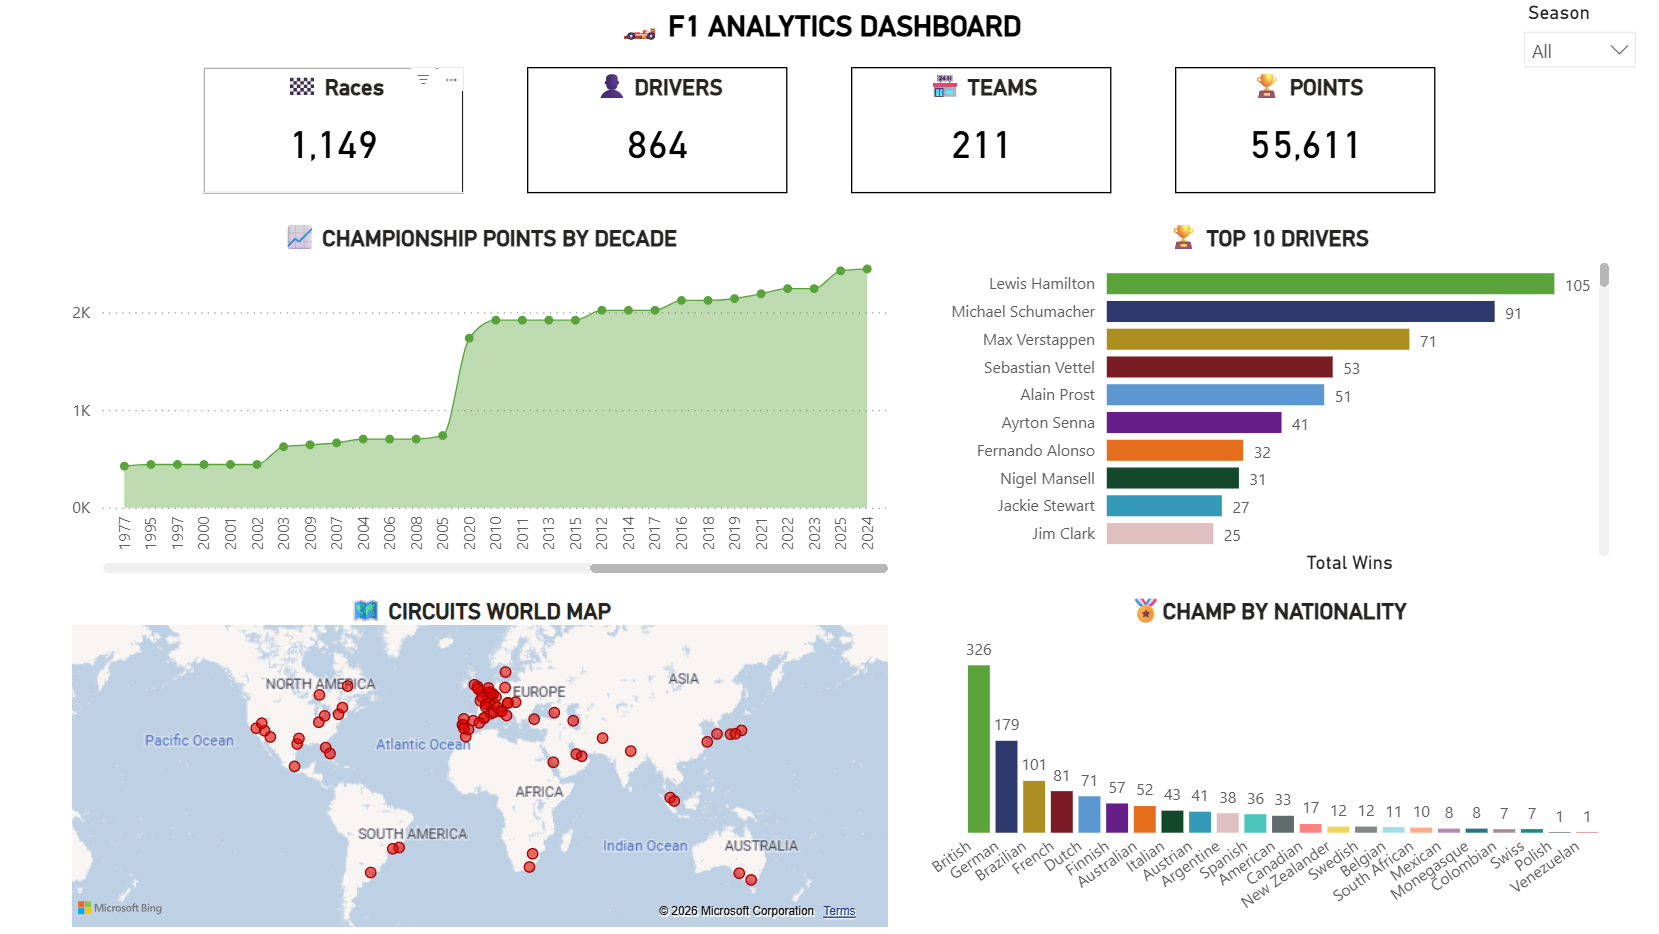

What the dashboard file says about the page in this screenshot:
{"tool":"powerbi","page":{"name":" Executive Summary 🏆","canvas":[1280,720],"ordinal":0},"visuals":[{"type":"textbox","box":[455.4,6.1,368.7,42.6],"z":0},{"type":"slicer","fields":{"Values":["dim_date.Season"]},"box":[1165.5,6.1,104.9,54.7],"z":1000},{"type":"card","title":"🏁 Races","fields":{"Values":["fact_race_results.race_id"]},"box":[171.3,60.8,198.4,95.8],"z":2000},{"type":"areaChart","title":"📈 CHAMPIONSHIP POINTS BY DECADE","fields":{"Y":["Measuer.Total Points"],"Category":["fact_race_results.race_year"]},"box":[66.1,177.1,631,273.7],"z":3000},{"type":"card","title":"👤 DRIVERS","fields":{"Values":["dim_driver_career.driver_id"]},"box":[417.6,60.8,198.4,95.8],"z":4000},{"type":"barChart","title":"🏆 TOP 10 DRIVERS","fields":{"Y":["Measuer.Total Wins"],"Category":["dim_driver_career.driver_name"],"Series":["dim_driver_career.driver_name"]},"box":[716.2,177.1,529.2,273.7],"z":5000},{"type":"card","title":"🏪 TEAMS","fields":{"Values":["dim_constructor_performance.constructor_id"]},"box":[663.9,60.8,198.4,95.8],"z":6000},{"type":"map","title":"🗺️ CIRCUITS WORLD MAP ","fields":{"Category":["agg_circuit_statistics.circuit_location"]},"box":[66.1,460.7,631,259.3],"z":7000},{"type":"card","title":"🏆 POINTS","fields":{"Values":["Measuer.Total Points"]},"box":[910.3,60.8,198.4,95.8],"z":8000},{"type":"columnChart","title":"🏅CHAMP BY NATIONALITY","fields":{"Category":["dim_driver_career.driver_nationality"],"Y":["Measuer.Total Wins"],"Series":["dim_driver_career.driver_nationality"]},"box":[716.2,460.7,529.2,259.3],"z":9000}]}

Visuals, with their boxes in screenshot pixels (x1, y1, x2, y2), scaled from the page's 1280x720 canvas onto the 1659x934 screenshot:
textbox: bbox=(590, 8, 1068, 63)
slicer - dim_date.Season: bbox=(1511, 8, 1647, 79)
"🏁 Races" card: bbox=(222, 79, 479, 203)
"📈 CHAMPIONSHIP POINTS BY DECADE" areaChart: bbox=(86, 230, 904, 585)
"👤 DRIVERS" card: bbox=(541, 79, 798, 203)
"🏆 TOP 10 DRIVERS" barChart: bbox=(928, 230, 1614, 585)
"🏪 TEAMS" card: bbox=(860, 79, 1118, 203)
"🗺️ CIRCUITS WORLD MAP " map: bbox=(86, 598, 904, 933)
"🏆 POINTS" card: bbox=(1180, 79, 1437, 203)
"🏅CHAMP BY NATIONALITY" columnChart: bbox=(928, 598, 1614, 933)
